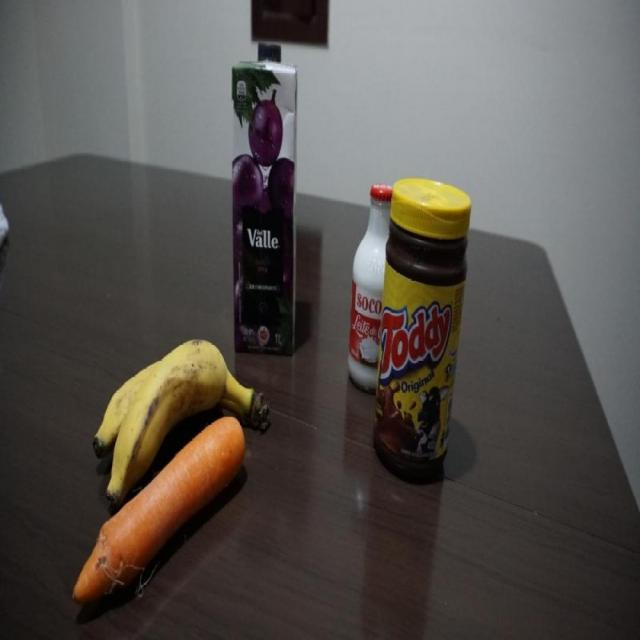Banana: (100, 322, 272, 417)
Carrot: (70, 428, 255, 604)
ChocolatePowder: (383, 175, 473, 480)
CoconutMilk: (349, 177, 380, 384)
